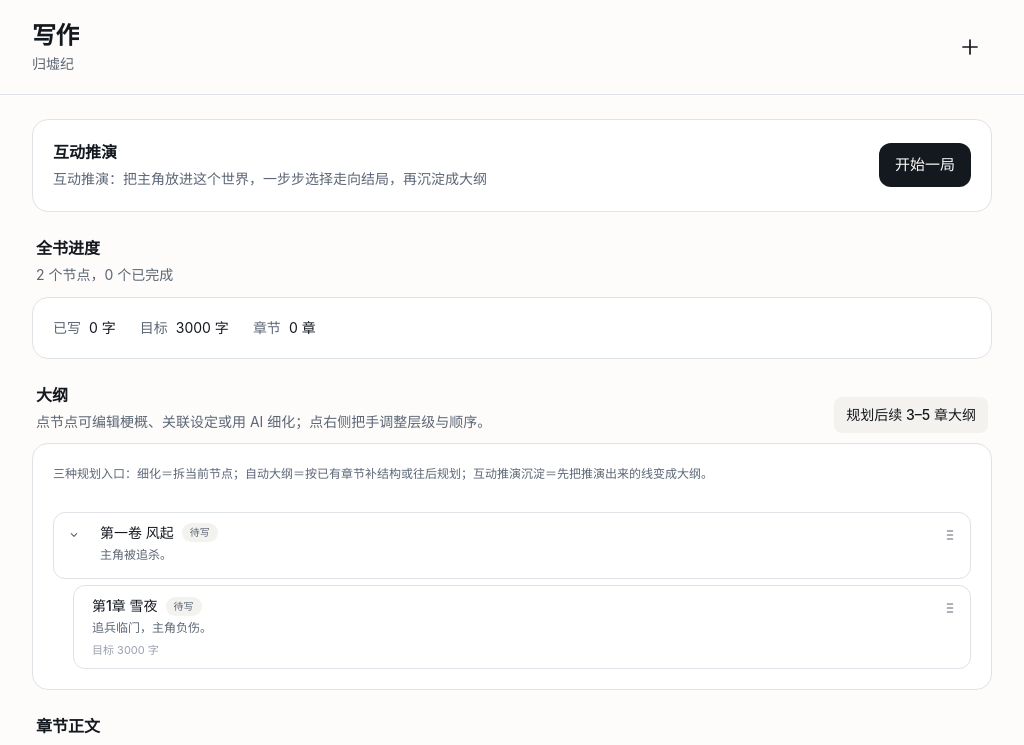
从大纲进入写作 › 首次进入会建章节、挂上大纲关联并把节点标为在写
What coordinates should you click on to do the following:
click the button with aria-label "编辑「第1章 雪夜」"
I would click on:
 (125, 606)
Its box is [84,586,932,668].
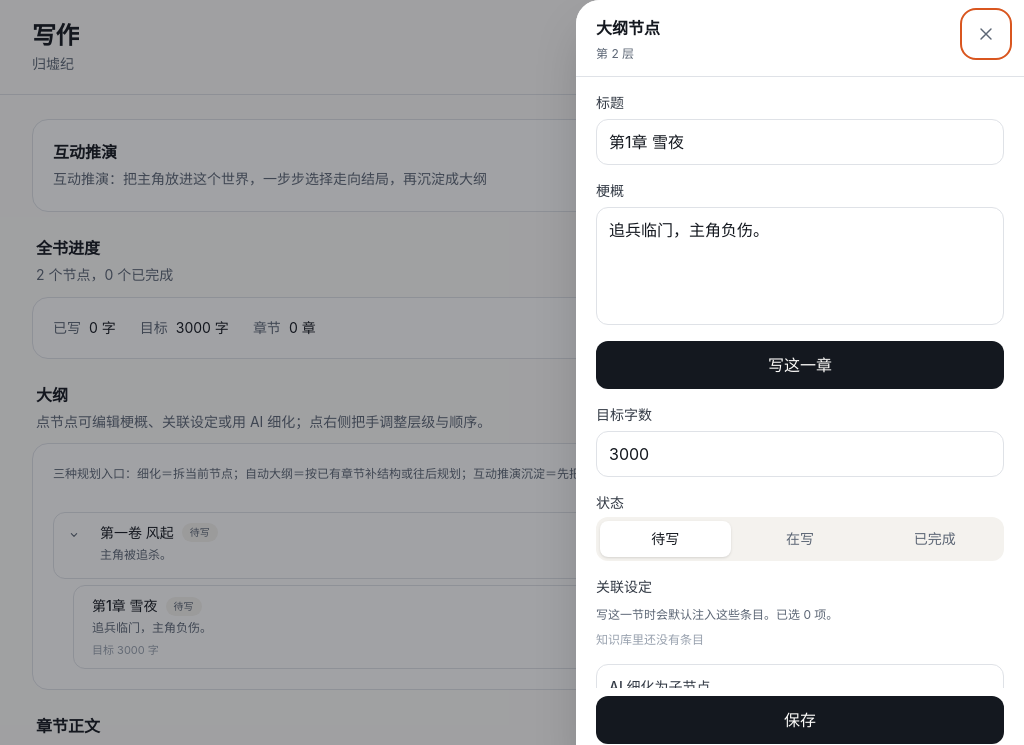
What coordinates should you click on to do the following:
click the button "写这一章"
I would click on:
 (800, 364)
Its box is [596,340,1004,388].
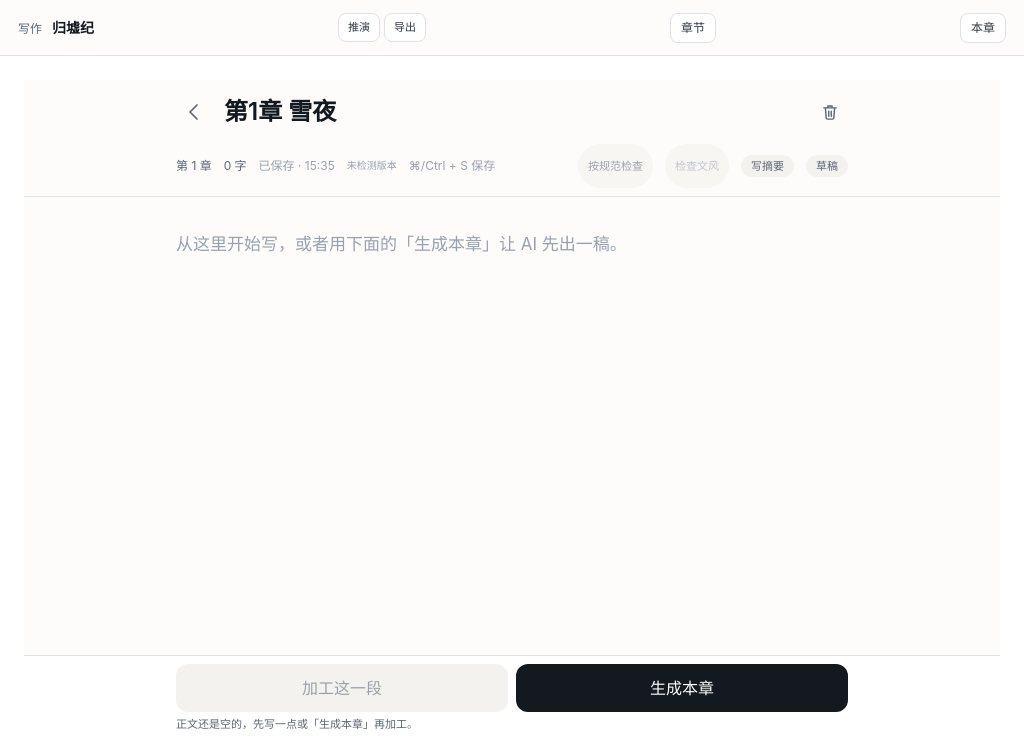
Now the text box named "章节正文" is shown, box [172,197,852,654]
